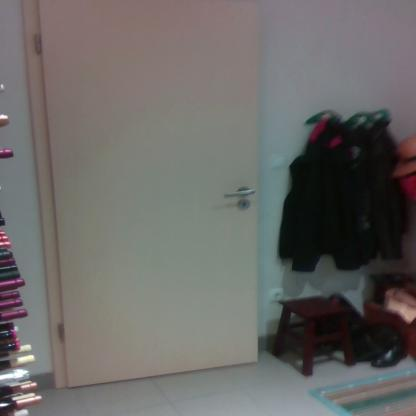door: (38, 3, 264, 372)
hinged: (57, 320, 69, 346), (33, 33, 43, 57)
lever: (223, 187, 254, 199)
